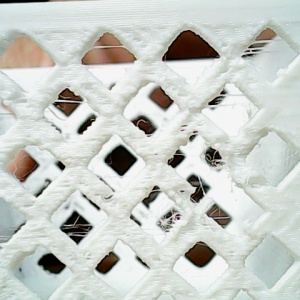3dpstringing: (206, 87, 257, 120), (150, 209, 194, 240), (235, 36, 282, 65), (63, 213, 98, 241), (7, 148, 30, 186), (207, 205, 238, 229), (200, 147, 229, 171), (84, 63, 132, 77), (46, 94, 97, 106), (84, 40, 131, 52), (43, 106, 76, 123), (173, 126, 203, 143), (134, 115, 156, 136), (94, 172, 129, 184), (2, 226, 22, 245), (193, 241, 213, 248)
3dpunderextrusion: (210, 126, 249, 156), (245, 168, 283, 195), (172, 185, 211, 208), (12, 84, 36, 110)
